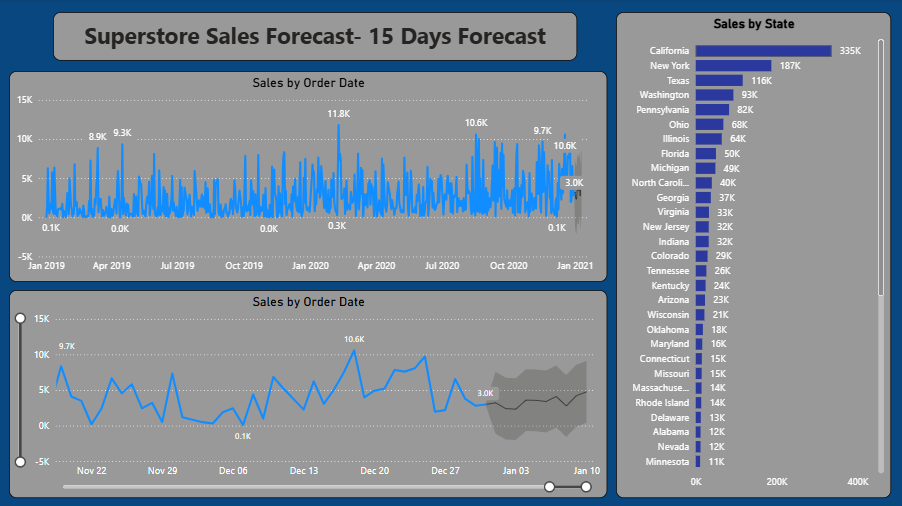

The dashboard page shown, as its layout file describes it:
{"tool":"powerbi","page":{"name":"P2 Sales Forecasting","canvas":[1280,720],"ordinal":1},"visuals":[{"type":"lineChart","title":"Sales by Order Date","fields":{"Y":["Sum(SuperStore_Sales_Dataset.Sales)"],"Category":["SuperStore_Sales_Dataset.Order Date"]},"box":[15.6,102,847.6,299.1],"z":0},{"type":"lineChart","title":"Sales by Order Date ","fields":{"Y":["Sum(SuperStore_Sales_Dataset.Sales)"],"Category":["SuperStore_Sales_Dataset.Order Date"]},"box":[15.6,412.4,847.6,294.8],"z":1},{"type":"textbox","box":[78,18.4,742.7,69.4],"z":2},{"type":"clusteredBarChart","title":"Sales by State","fields":{"Category":["SuperStore_Sales_Dataset.State"],"Y":["Sum(SuperStore_Sales_Dataset.Sales)"]},"box":[875.9,18.4,389.8,688.8],"z":3}]}

Visuals, with their boxes in screenshot pixels (x1, y1, x2, y2), scaled from the page's 1280x720 canvas onto the 902x506 screenshot:
"Sales by Order Date" lineChart: (left=11, top=72, right=608, bottom=282)
"Sales by Order Date " lineChart: (left=11, top=290, right=608, bottom=497)
textbox: (left=55, top=13, right=578, bottom=62)
"Sales by State" clusteredBarChart: (left=617, top=13, right=892, bottom=497)
